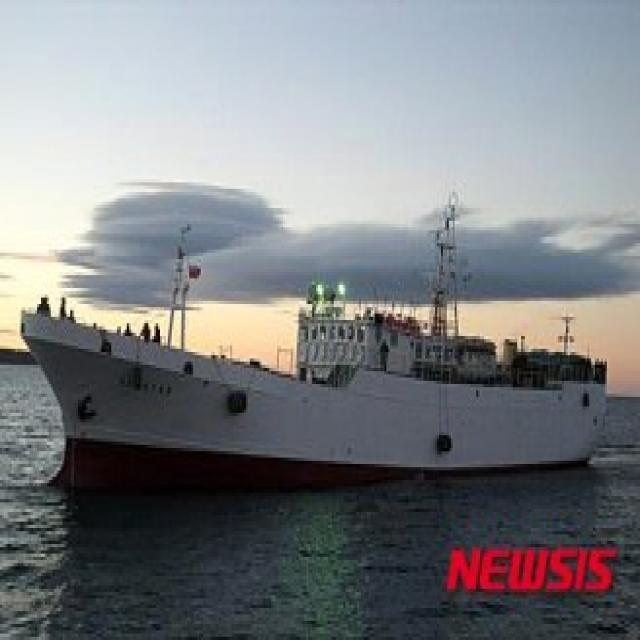Ship: (5, 184, 626, 507)
